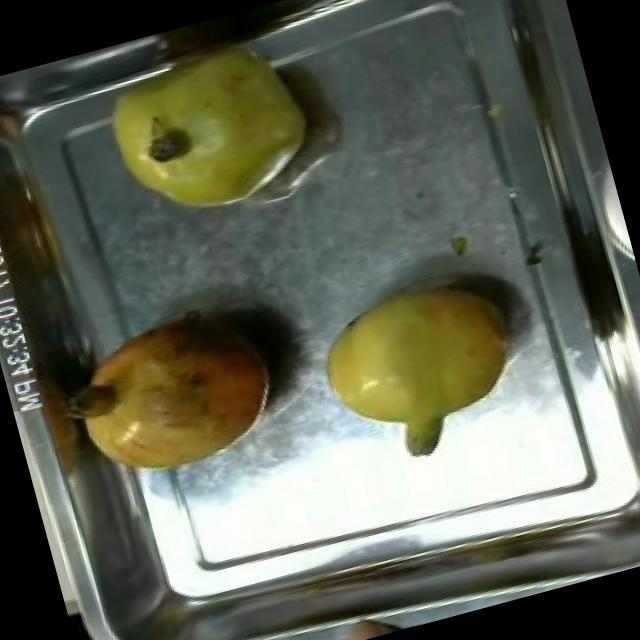fruit: (294, 253, 546, 478), (87, 17, 336, 242), (49, 290, 300, 500), (307, 599, 419, 640)
